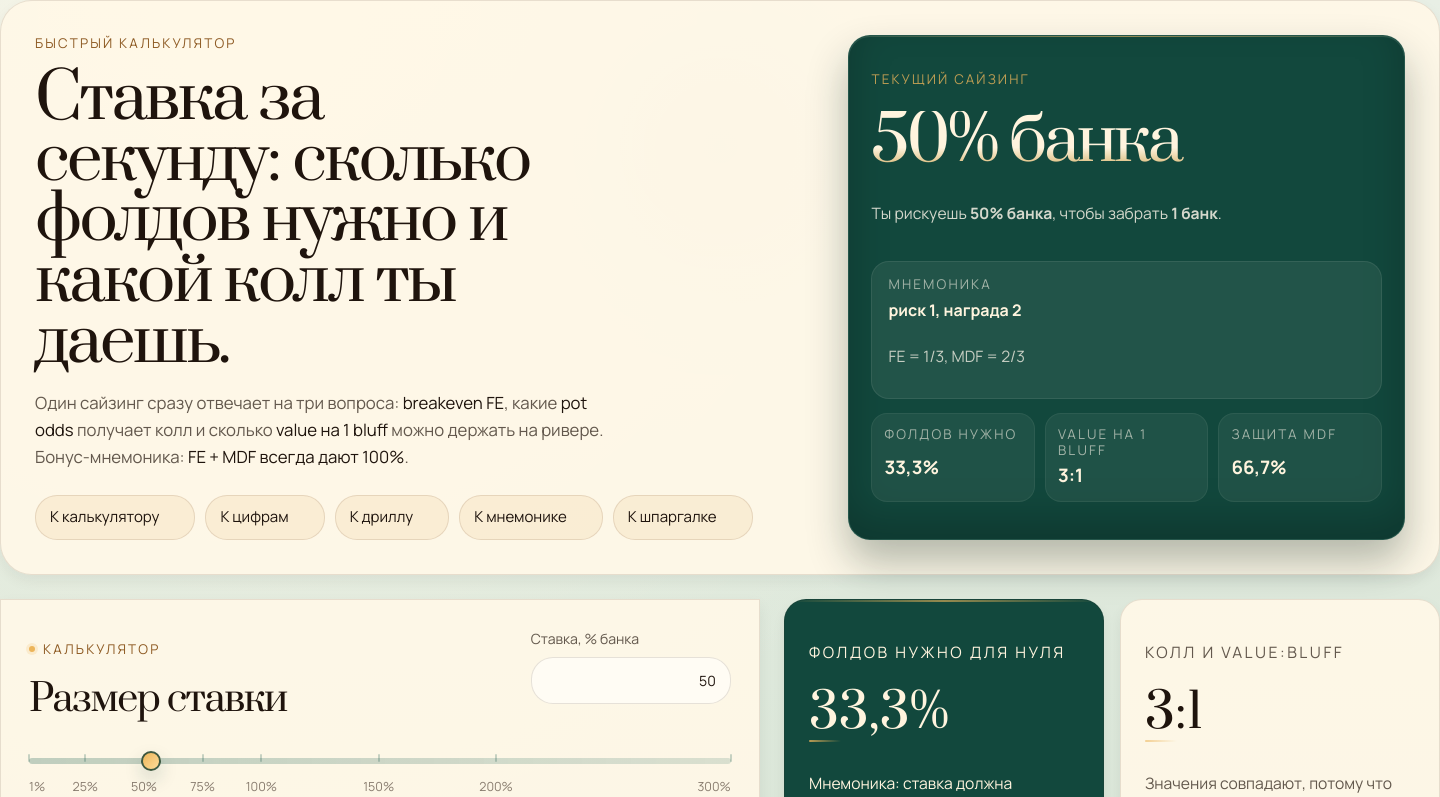
Scenario: QuickMode › rounds fractional bet input to an integer and locks the slider to it
This screenshot has width=1440, height=797.
Replace the text in the field named "Bet size percent" with "140.5" at [631, 680], box [531, 657, 731, 704]
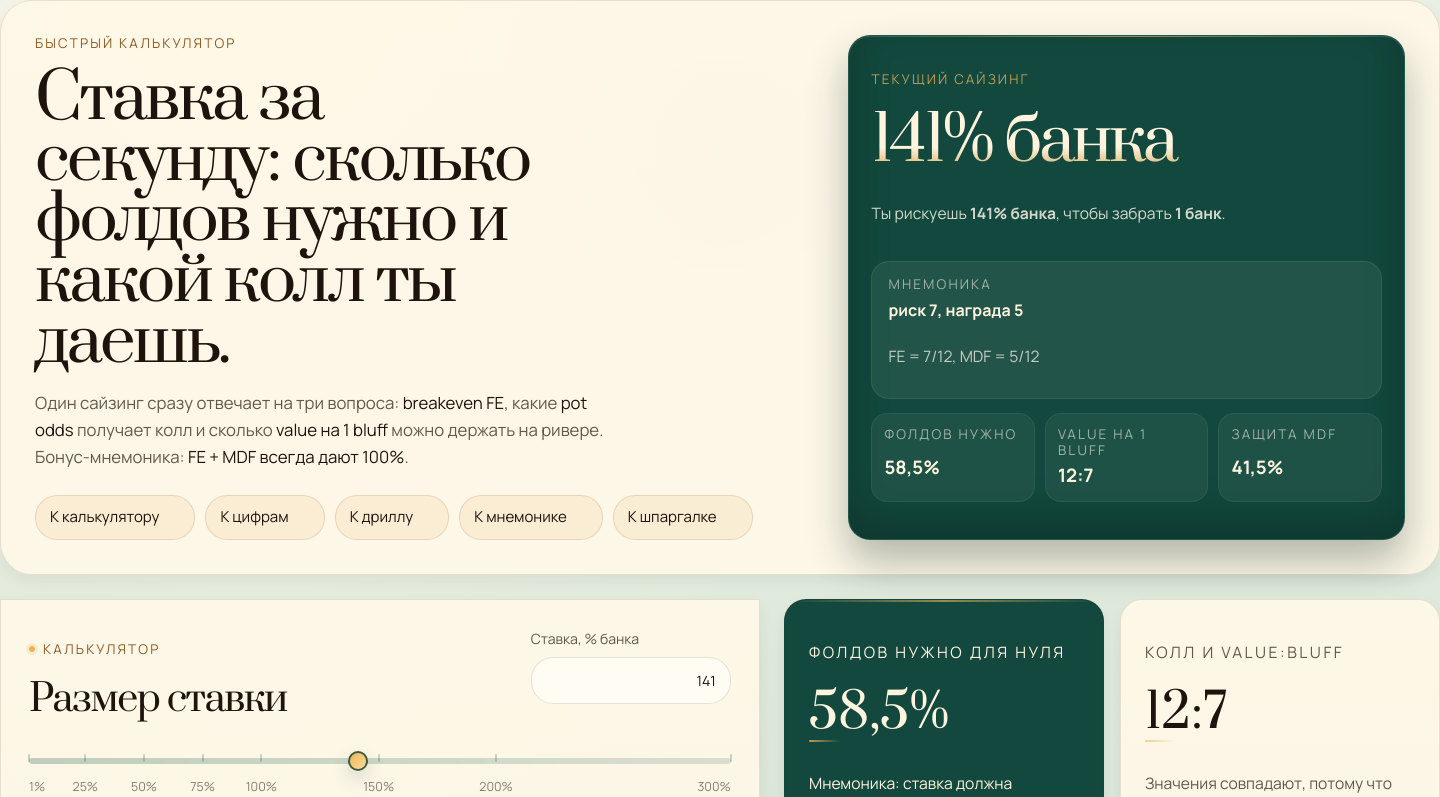
Check: the slider named "Bet size slider" holds "141", box [29, 758, 731, 764]
